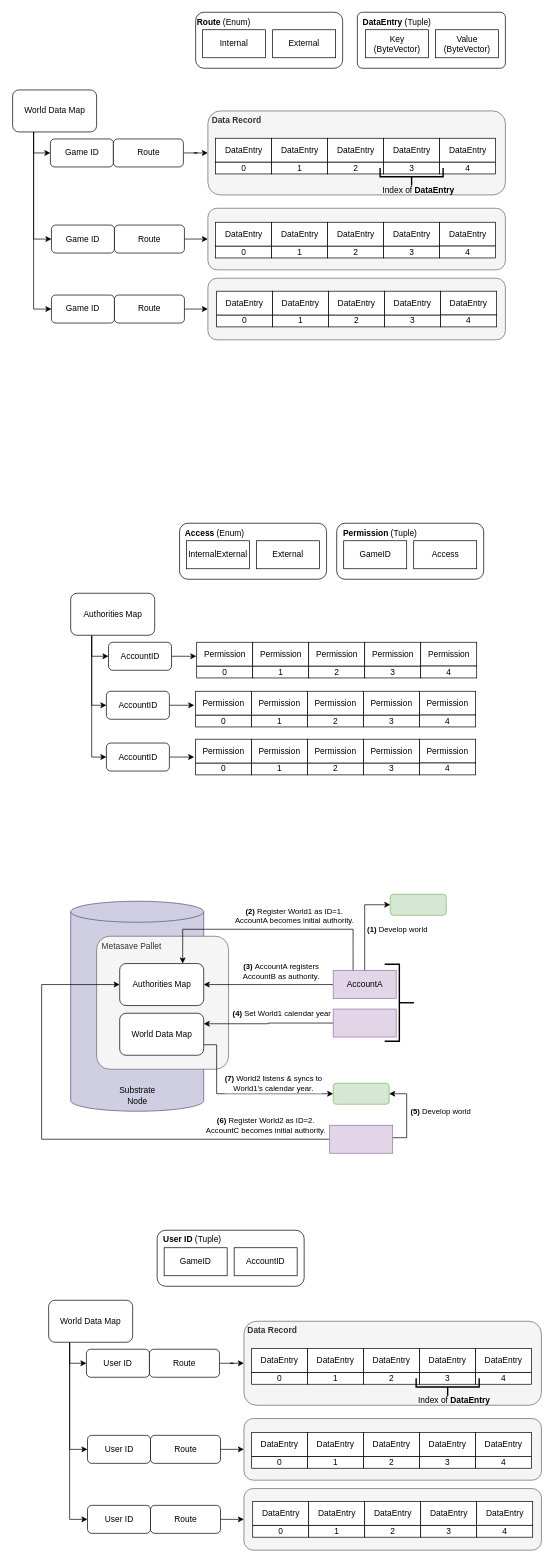
Image size: 554x1562. Some labels were removed from this diagram. Here are the shapes that lost their labels. From the top down, the centre of each, then its label:
At (418,904): "World1".
At (364,1022): "AccountB".
At (399,1002): "Dev Team".
At (360,1093): "World2".
At (361,1139): "AccountC".
